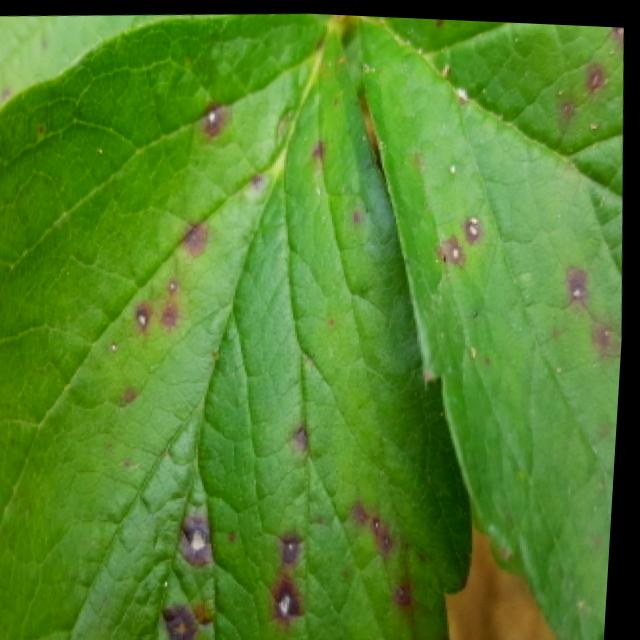Leaf Spot: (0, 11, 481, 640), (349, 12, 625, 640)
